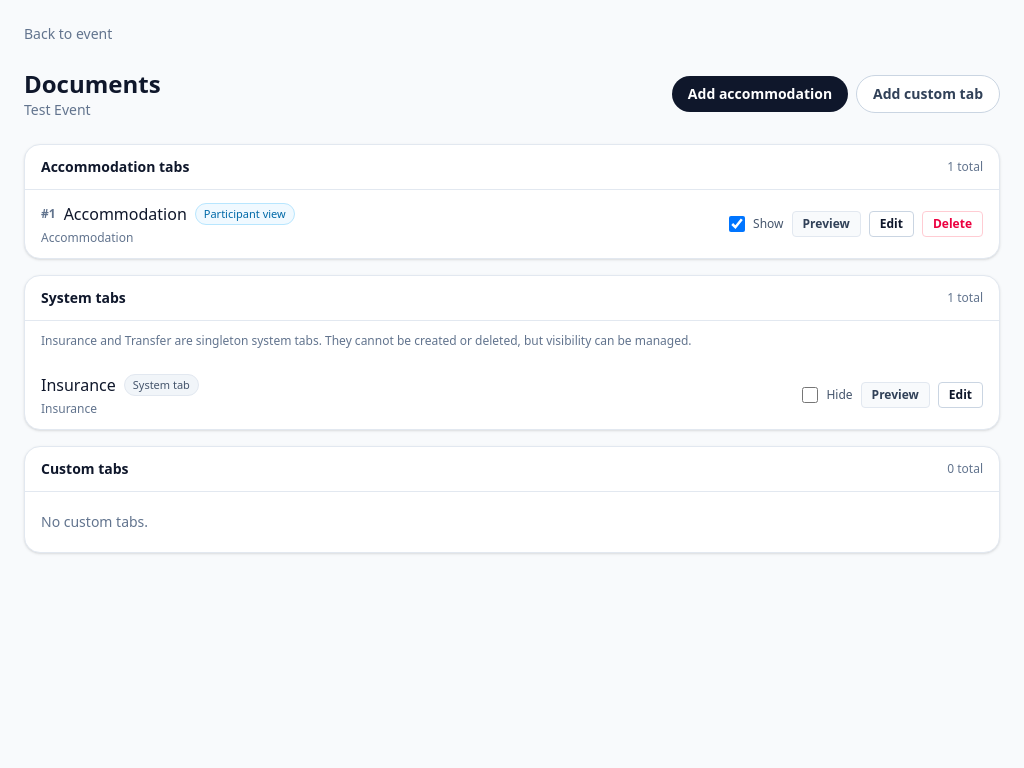
Test case: AdminEventDocsTabs › starts create form sort order with max + 1
The image size is (1024, 768).
Click the button "Add accommodation" at (760, 94), box x1=672 y1=76 x2=848 y2=112
(page scrolled)
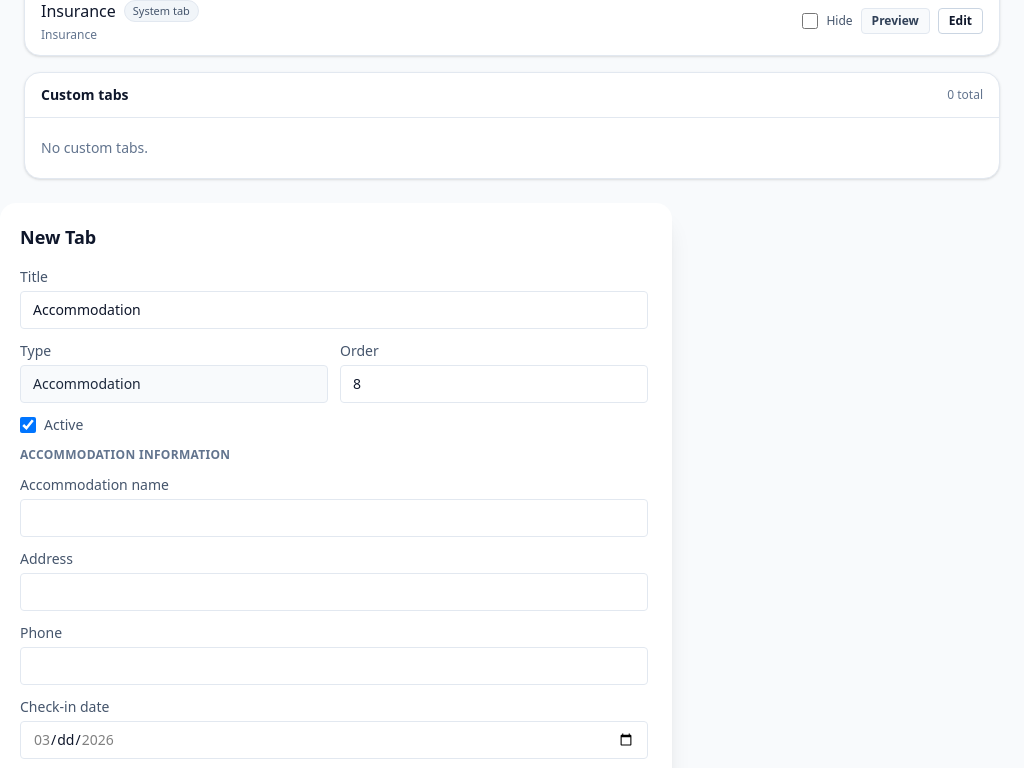
Check: the number field labelled "Order" holds "8", box x1=340 y1=365 x2=648 y2=403
